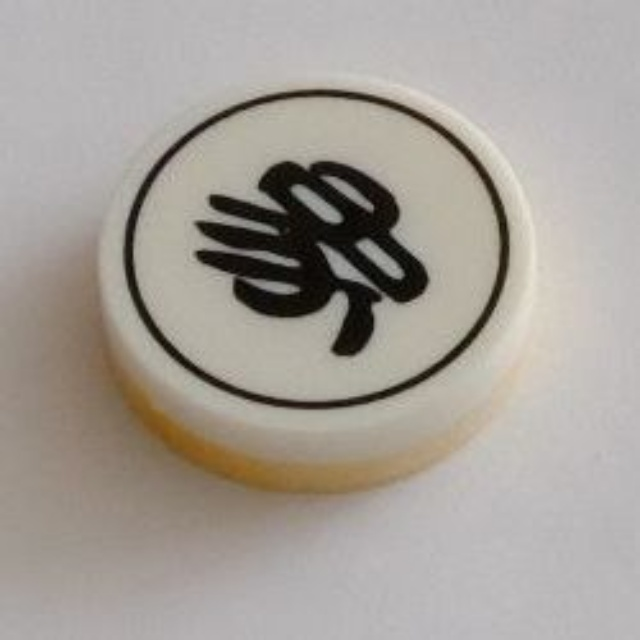black_bo: (84, 67, 563, 496)
